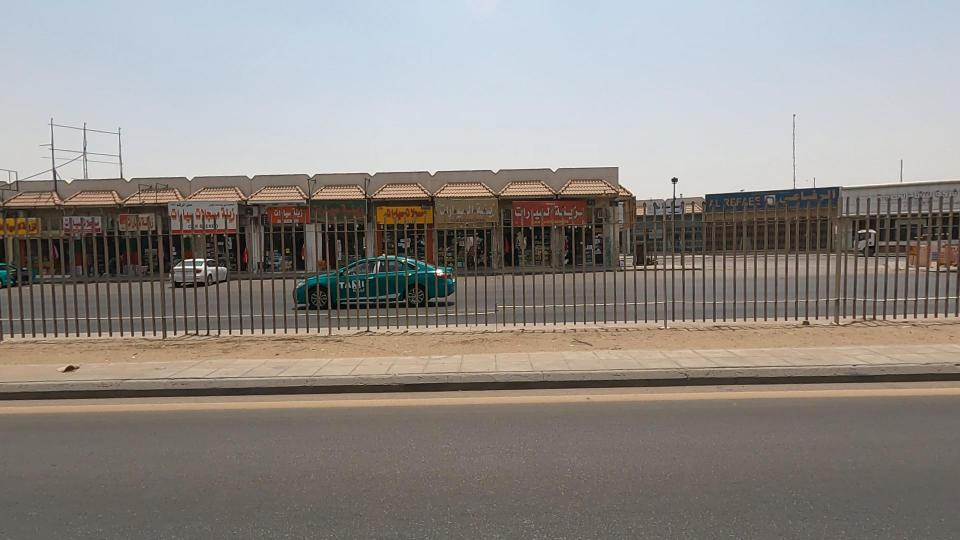GARBAGE: (20, 335, 132, 394)
